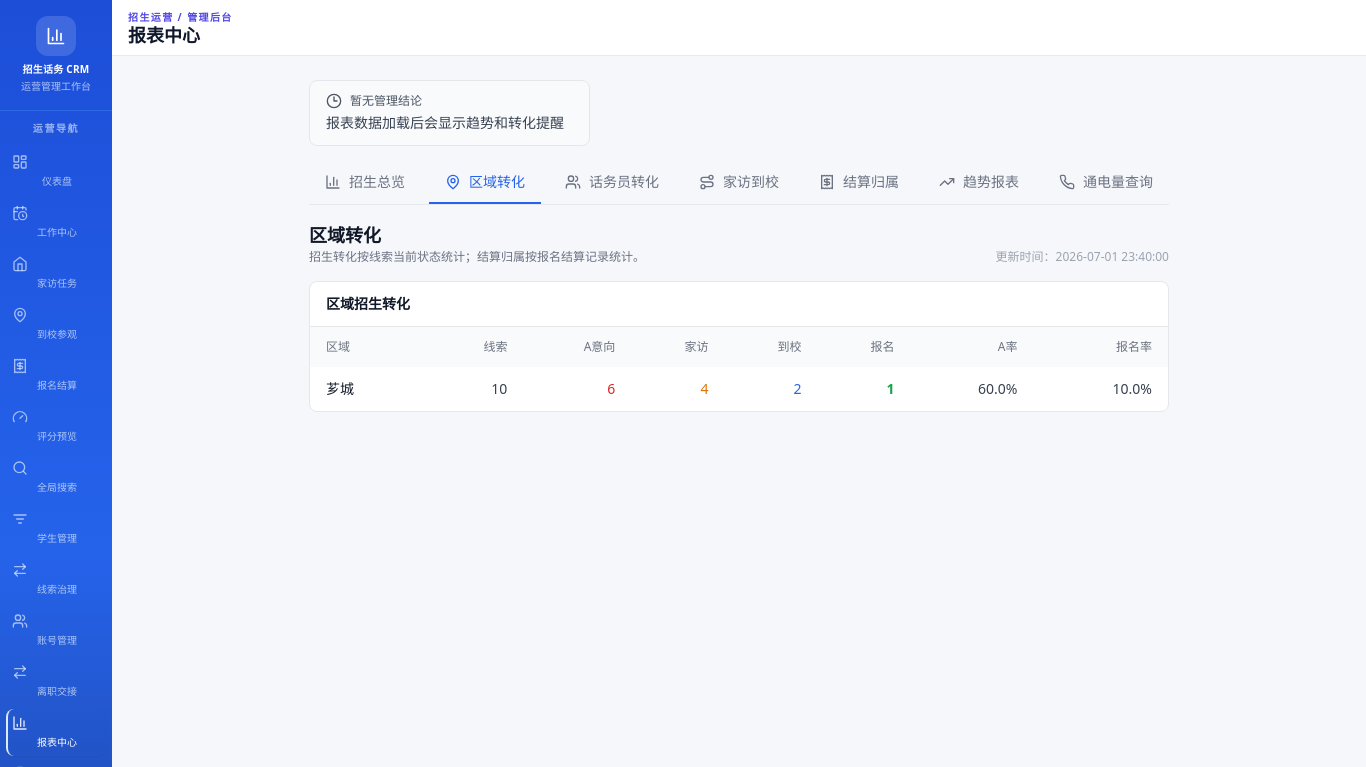
Scenario: Admissions workflow admin pages › renders region conversion and visit execution report tabs
Expected: the heading "区域转化" is shown, [309,223,381,247]
Expected: the text "芗城" is shown, [310,367,426,411]
What coordinates should you click on to do the following:
click the button "家访到校"
I would click on:
 (739, 183)
Its box is [683,162,795,204].
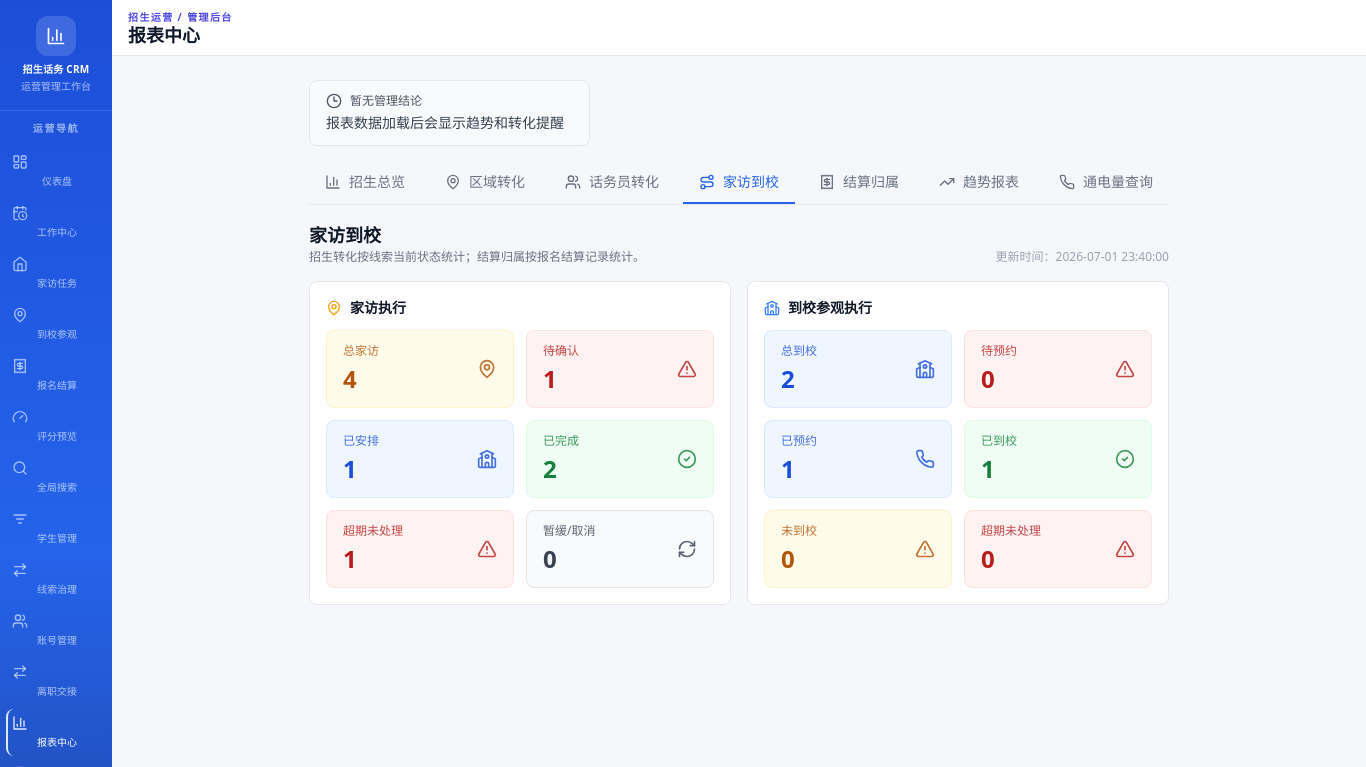
Expected: the heading "家访到校" is shown, [309,223,381,247]
Expected: the text "家访执行" is shown, [326,298,406,317]
Expected: the text "到校参观执行" is shown, [764,298,872,317]
